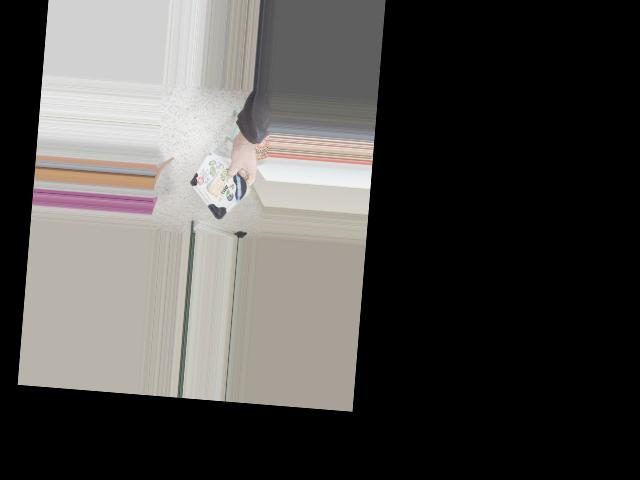cheese: (184, 159, 265, 213)
